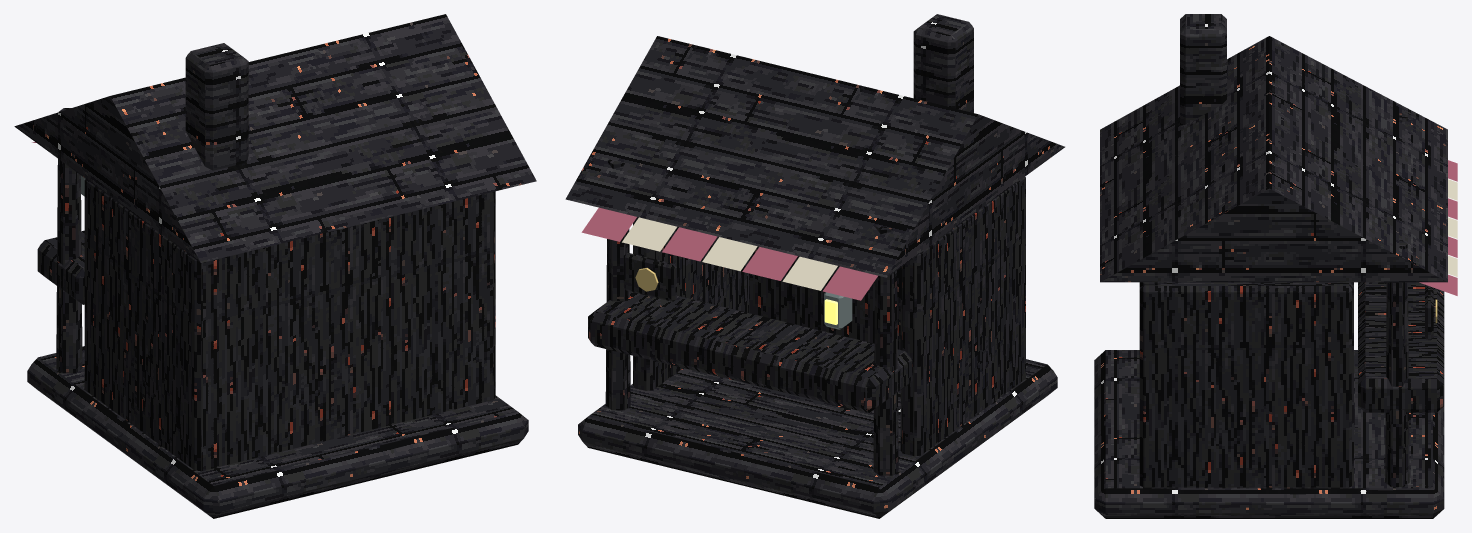
The model's file is loja_mascate.glb.
3 renders of one model, left to right at view 1: azimuth 30°, elevation 25°; view 2: azimuth 150°, elevation 25°; view 3: azimuth 270°, elevation 25°, orthographic. The views are drawn at different scales.
Visible parts, largest first — view 1: vulcao_loja_mascate; view 2: vulcao_loja_mascate; view 3: vulcao_loja_mascate.
Part boxes in pixels (x1,y1,x2,y2): vulcao_loja_mascate: (14,14,536,518); vulcao_loja_mascate: (565,14,1064,518); vulcao_loja_mascate: (1094,14,1457,518).
Bounding box in the file's own units: 1.92 × 2.26 × 1.93.
8 materials, 3 textured.
